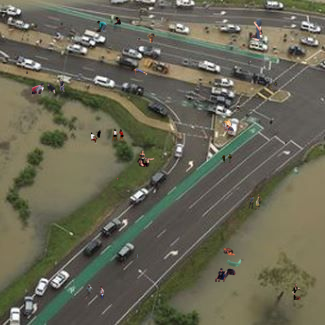Human: (91, 129, 124, 144), (32, 79, 65, 94), (235, 104, 261, 123), (96, 17, 121, 32), (137, 150, 155, 167), (85, 284, 104, 300), (250, 18, 263, 41), (215, 268, 236, 282), (248, 194, 262, 210), (223, 248, 244, 258), (292, 283, 302, 300), (222, 120, 234, 134), (226, 259, 244, 267), (131, 68, 148, 76), (265, 79, 280, 88), (147, 33, 157, 43), (222, 154, 232, 163), (238, 60, 252, 66), (117, 176, 127, 181), (135, 37, 141, 41), (26, 71, 28, 75), (285, 142, 287, 145), (137, 254, 138, 258), (254, 138, 255, 142), (98, 281, 100, 283)
